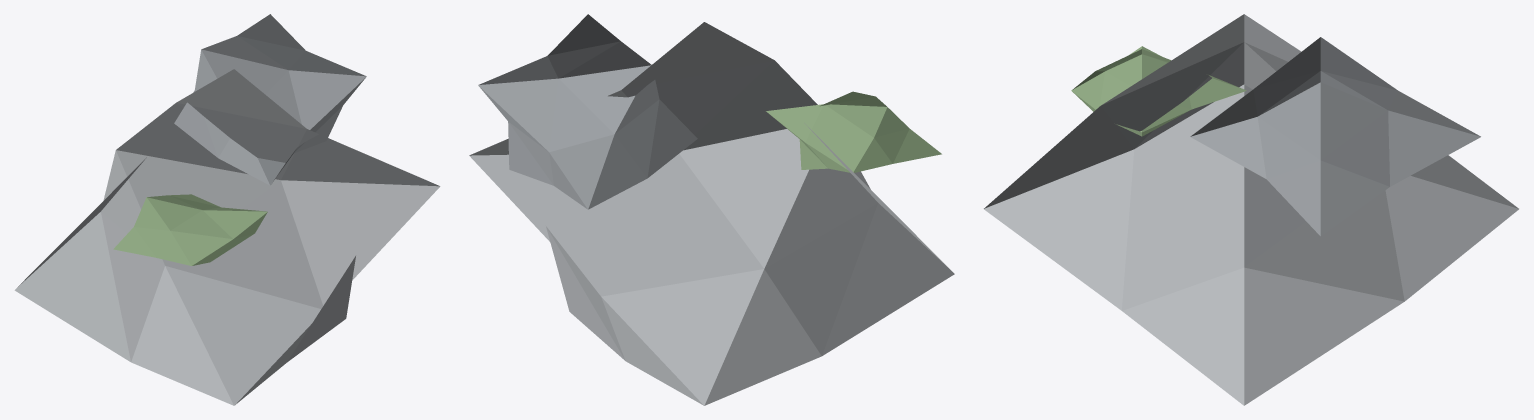
File: boulder_v10.glb
3 views of the same model, side by side, from view 1: azimuth 30°, elevation 25°; view 2: azimuth 150°, elevation 25°; view 3: azimuth 270°, elevation 25° (orthographic). The views are drawn at different scales.
Visible parts, largest first — view 1: lod0; view 2: lod0; view 3: lod0.
Part boxes in pixels (left/top/right/bottom): lod0: left=14, top=14, right=440, bottom=405; lod0: left=469, top=14, right=954, bottom=405; lod0: left=984, top=14, right=1518, bottom=405.
Size of what is drawn, in the model's own units: 2.47 by 1.94 by 2.31.
